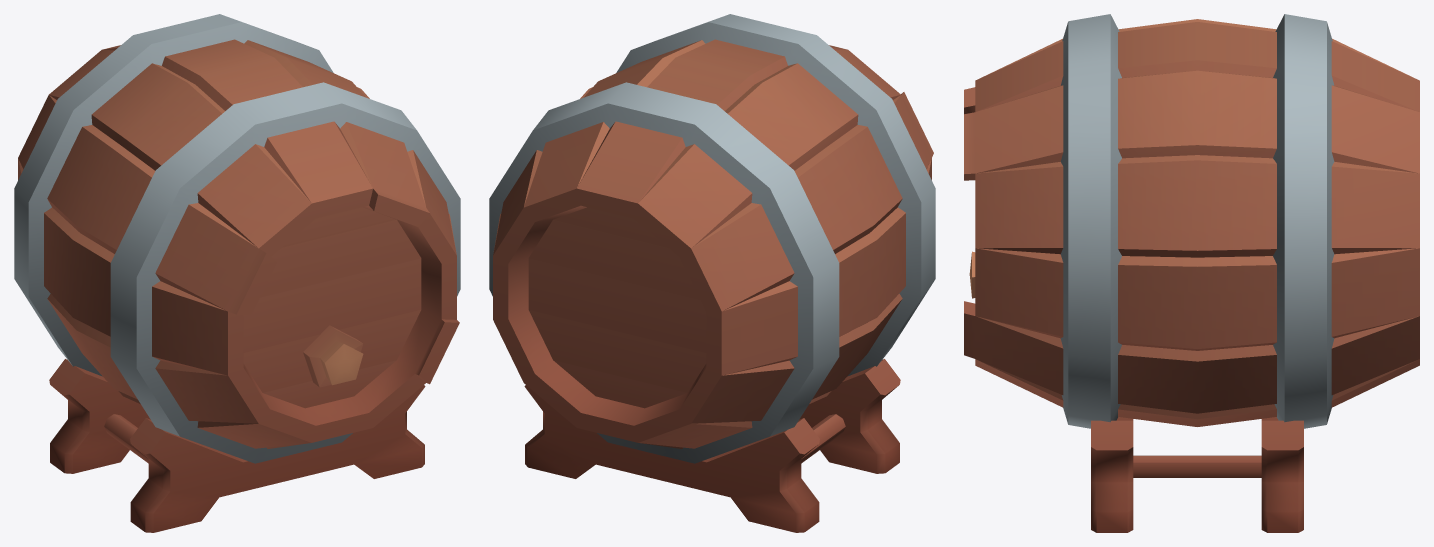
The model's file is keg.gltf.
The picture shows the model from 3 angles, left to right: view 1: azimuth 30°, elevation 25°; view 2: azimuth 150°, elevation 25°; view 3: azimuth 270°, elevation 25°; orthographic projection. The views are drawn at different scales.
Parts seen in each view (by area): view 1: keg; view 2: keg; view 3: keg.
Part boxes in pixels (bbox=[...]): keg: bbox=[14, 14, 460, 532]; keg: bbox=[489, 14, 935, 532]; keg: bbox=[964, 14, 1419, 532].
Size of the model in its own units: 1.8 by 2.05 by 2.
Materials: 1 (1 with a texture image).
